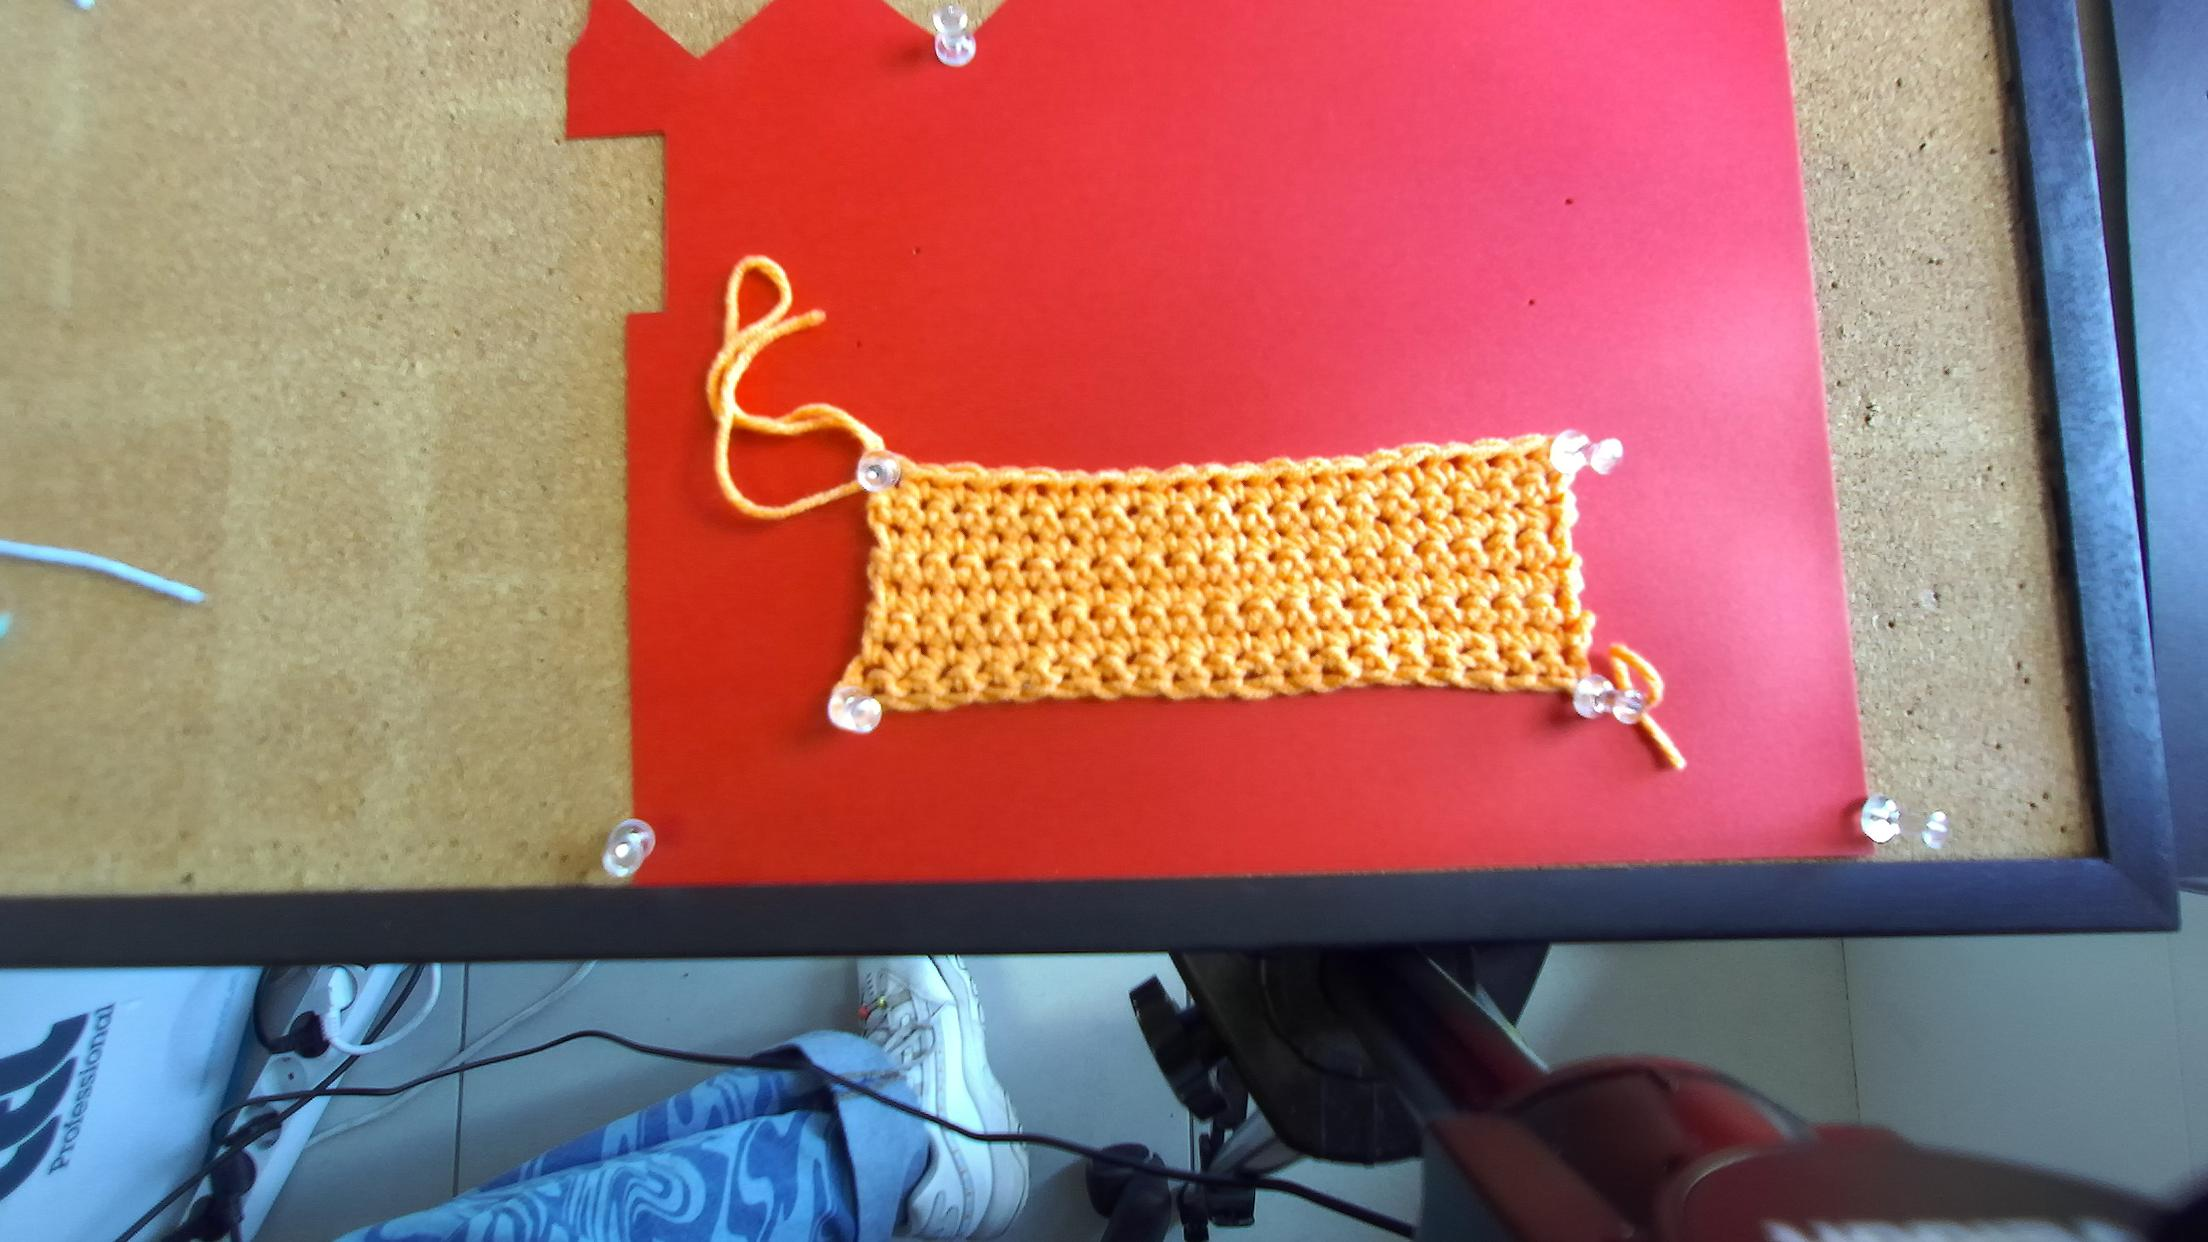hole: (1445, 455, 1463, 470), (961, 479, 978, 494), (1485, 453, 1501, 467), (1034, 484, 1049, 497), (1099, 482, 1115, 496), (998, 482, 1011, 496), (925, 476, 940, 488), (1207, 478, 1219, 493), (1380, 466, 1395, 478), (893, 473, 904, 490), (1416, 456, 1427, 472), (1275, 475, 1286, 488), (1172, 481, 1184, 491), (1072, 482, 1080, 499), (1523, 450, 1536, 459), (1137, 484, 1149, 491), (1240, 478, 1250, 487), (1310, 475, 1319, 484), (1348, 472, 1357, 481)
swatch: (845, 435, 1620, 719)
